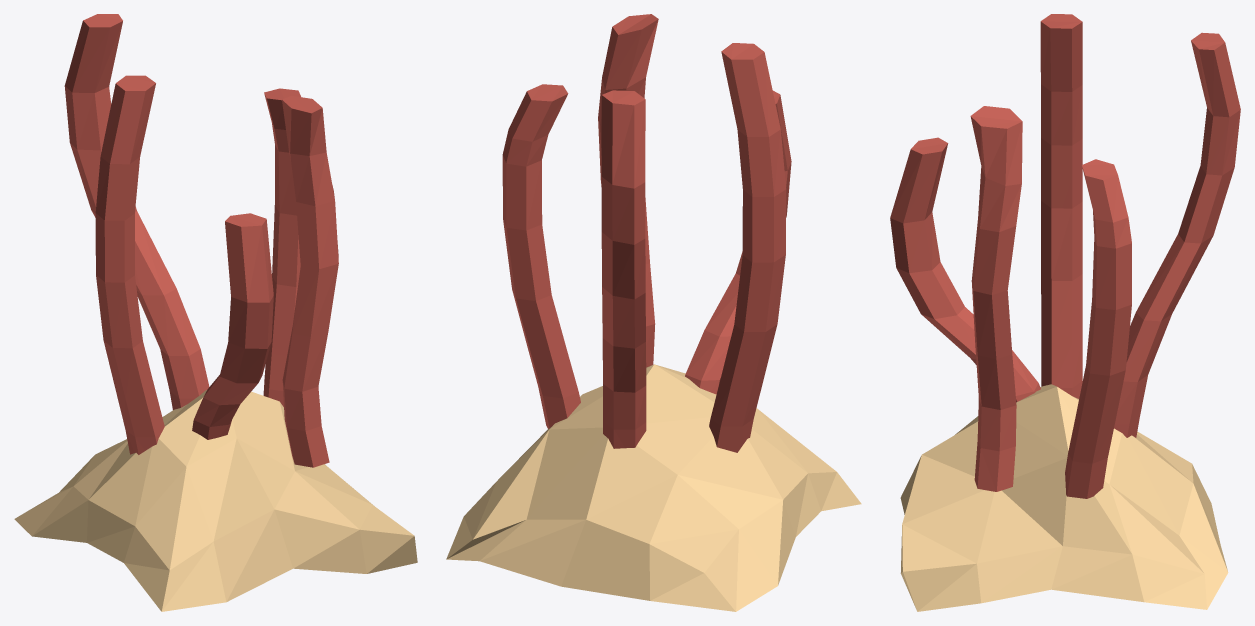
Rendered from more_koral.glb.
3 views of the same model, side by side, from view 1: azimuth 30°, elevation 25°; view 2: azimuth 150°, elevation 25°; view 3: azimuth 270°, elevation 25° (orthographic). The views are drawn at different scales.
Visible parts, largest first — view 1: more_koral; view 2: more_koral; view 3: more_koral.
Boxes of the visible parts, x1,y1,x2,y2 form: more_koral: (14, 14, 417, 611); more_koral: (446, 14, 861, 611); more_koral: (890, 14, 1240, 611).
Size of the model in its own units: 1.09 by 1.72 by 1.12.
Materials: 1 (1 with a texture image).
